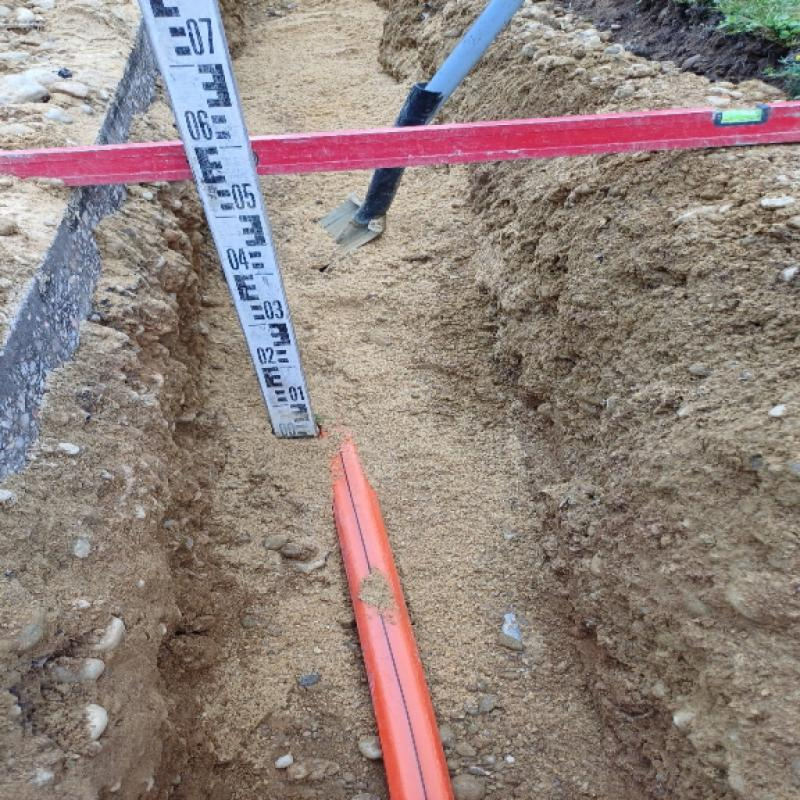Orang-Speednetrohrchen: (326, 441, 453, 798)
